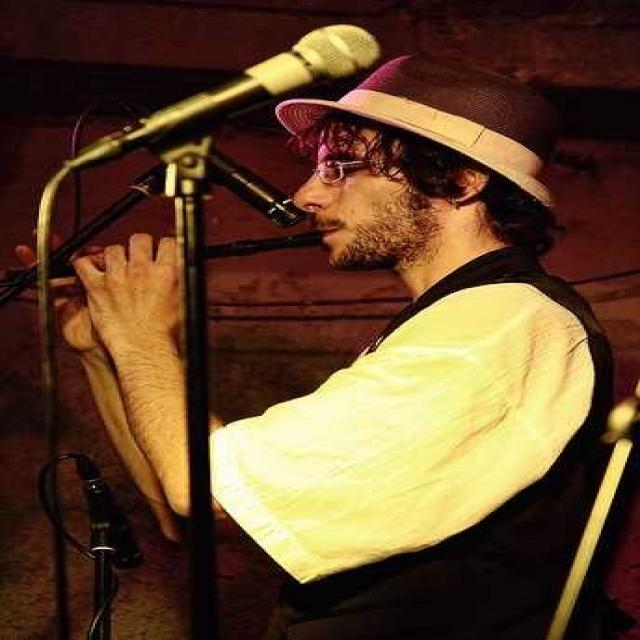microphone: (115, 24, 380, 166), (200, 145, 303, 226), (82, 472, 141, 567)
